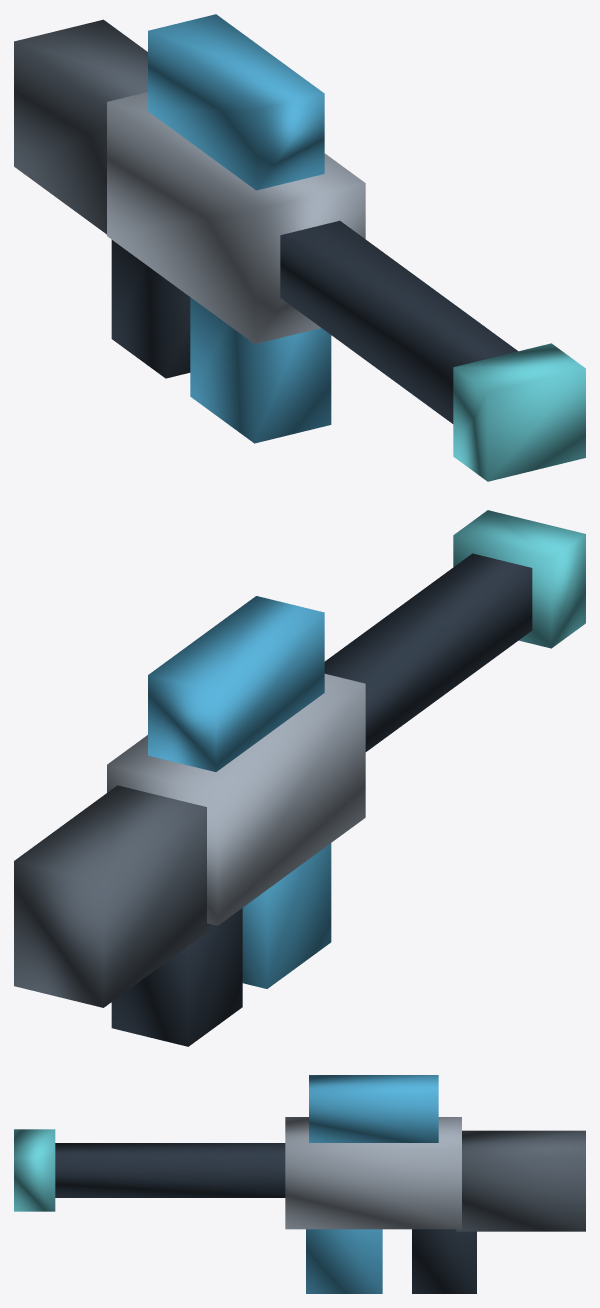
The model's file is sunbow.glb.
3 views of the same model, one above another, from view 1: azimuth 30°, elevation 25°; view 2: azimuth 150°, elevation 25°; view 3: azimuth 270°, elevation 25° (orthographic). The views are drawn at different scales.
Visible parts, largest first — view 1: Hardware; view 2: Hardware; view 3: Hardware.
Part boxes in pixels (bbox=[...]): Hardware: bbox=[14, 14, 585, 481]; Hardware: bbox=[14, 510, 585, 1046]; Hardware: bbox=[14, 1075, 585, 1293].
Size of the model in its own units: 0.13 by 0.37 by 0.97.
